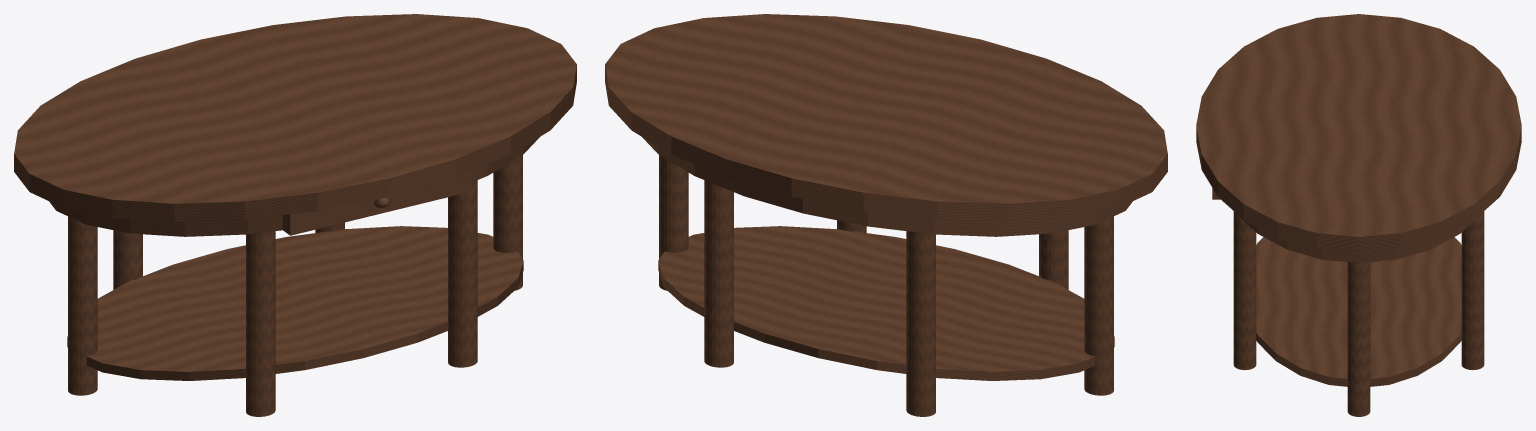
The picture shows the model from 3 angles, left to right: view 1: azimuth 30°, elevation 25°; view 2: azimuth 150°, elevation 25°; view 3: azimuth 270°, elevation 25°; orthographic projection. The views are drawn at different scales.
Visible parts, largest first — view 1: 1 tabletop, 5 lower_shelf, 6 leg_front_left, 7 leg_front_right, 10 leg_left, 2 apron, 3 drawer_front, 11 leg_right, 8 leg_back_left; view 2: 1 tabletop, 5 lower_shelf, 2 apron, 8 leg_back_left, 9 leg_back_right, 10 leg_left, 11 leg_right, 6 leg_front_left; view 3: 1 tabletop, 5 lower_shelf, 11 leg_right, 7 leg_front_right, 9 leg_back_right, 2 apron.
Boxes of the visible parts, box(x1,y1,x2,y2) form: 1 tabletop: box(14, 14, 576, 222); 5 lower_shelf: box(67, 226, 523, 380); 6 leg_front_left: box(246, 231, 275, 416); 7 leg_front_right: box(448, 180, 477, 367); 10 leg_left: box(68, 216, 97, 395); 2 apron: box(49, 137, 539, 236); 3 drawer_front: box(282, 171, 471, 235); 11 leg_right: box(493, 155, 522, 290); 8 leg_back_left: box(113, 230, 142, 289); 1 tabletop: box(605, 14, 1167, 222); 5 lower_shelf: box(658, 226, 1114, 380); 2 apron: box(642, 137, 1132, 236); 8 leg_back_left: box(906, 231, 935, 416); 9 leg_back_right: box(704, 180, 733, 367); 10 leg_left: box(1084, 216, 1113, 395); 11 leg_right: box(659, 155, 688, 290); 6 leg_front_left: box(1039, 230, 1068, 289); 1 tabletop: box(1196, 14, 1521, 252); 5 lower_shelf: box(1256, 237, 1461, 386); 11 leg_right: box(1347, 262, 1370, 416); 7 leg_front_right: box(1233, 211, 1256, 369); 9 leg_back_right: box(1461, 211, 1484, 369); 2 apron: box(1234, 211, 1483, 262).
Size of the model in its own units: 2.43 by 1 by 1.5.
Materials: 1 (1 with a texture image).
